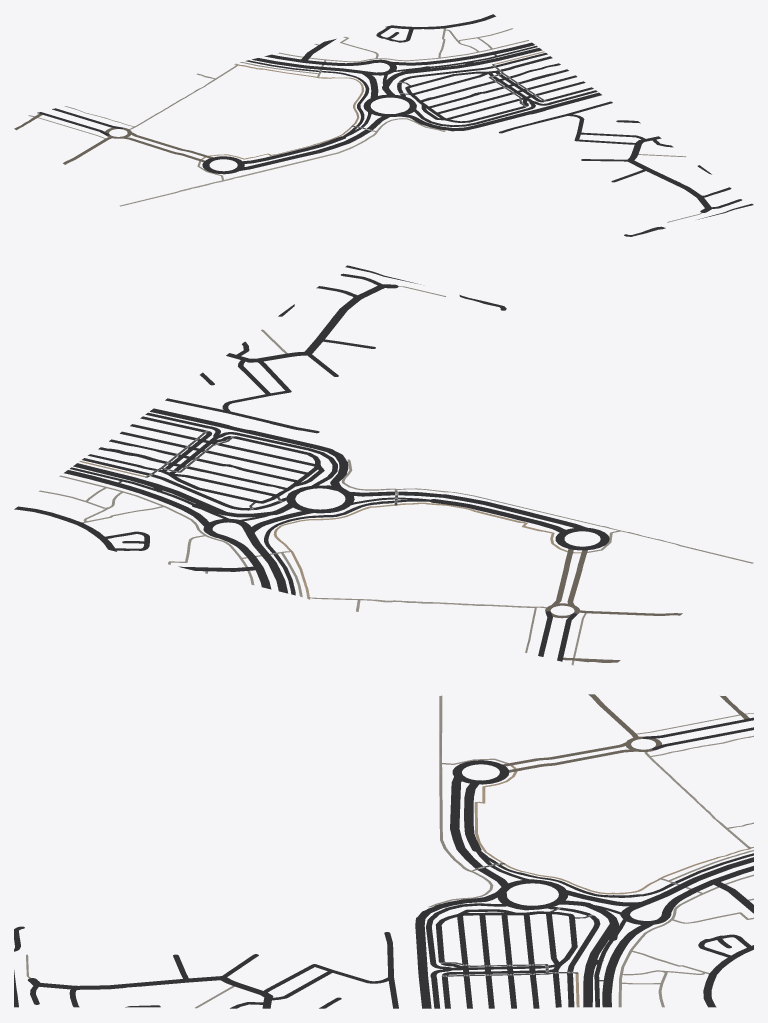
File: roads.glb
3 renders of one model, top to bottom at view 1: azimuth 30°, elevation 25°; view 2: azimuth 150°, elevation 25°; view 3: azimuth 270°, elevation 25°, orthographic. The views are drawn at different scales.
Parts seen in each view (by area): view 1: T_W1_N5_roads; view 2: T_W1_N5_roads; view 3: T_W1_N5_roads.
Boxes of the visible parts, <box> form: T_W1_N5_roads: <box>14,14,753,236</box>; T_W1_N5_roads: <box>14,265,753,665</box>; T_W1_N5_roads: <box>14,694,753,1008</box>.
Bounding box in the file's own units: 500 × 3 × 500.
